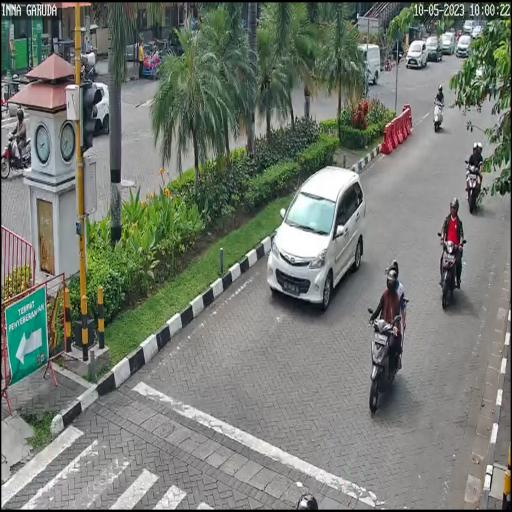mobil: (268, 163, 370, 313)
motor: (367, 301, 407, 423), (434, 225, 470, 314), (460, 153, 488, 214)
